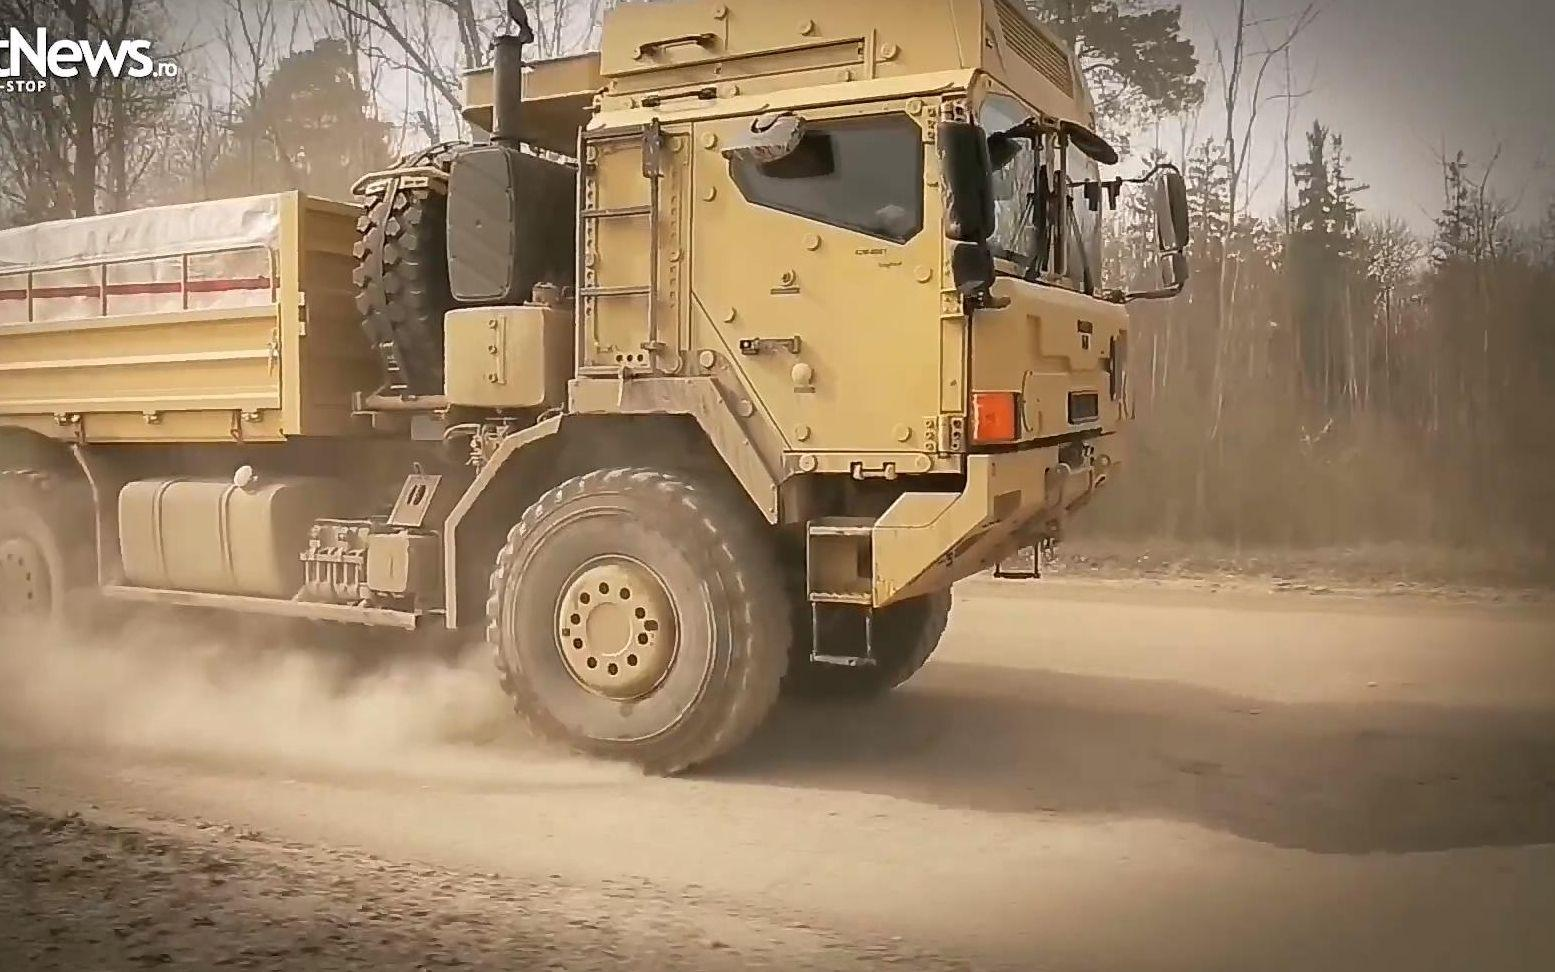truck: (1, 1, 1170, 778)
